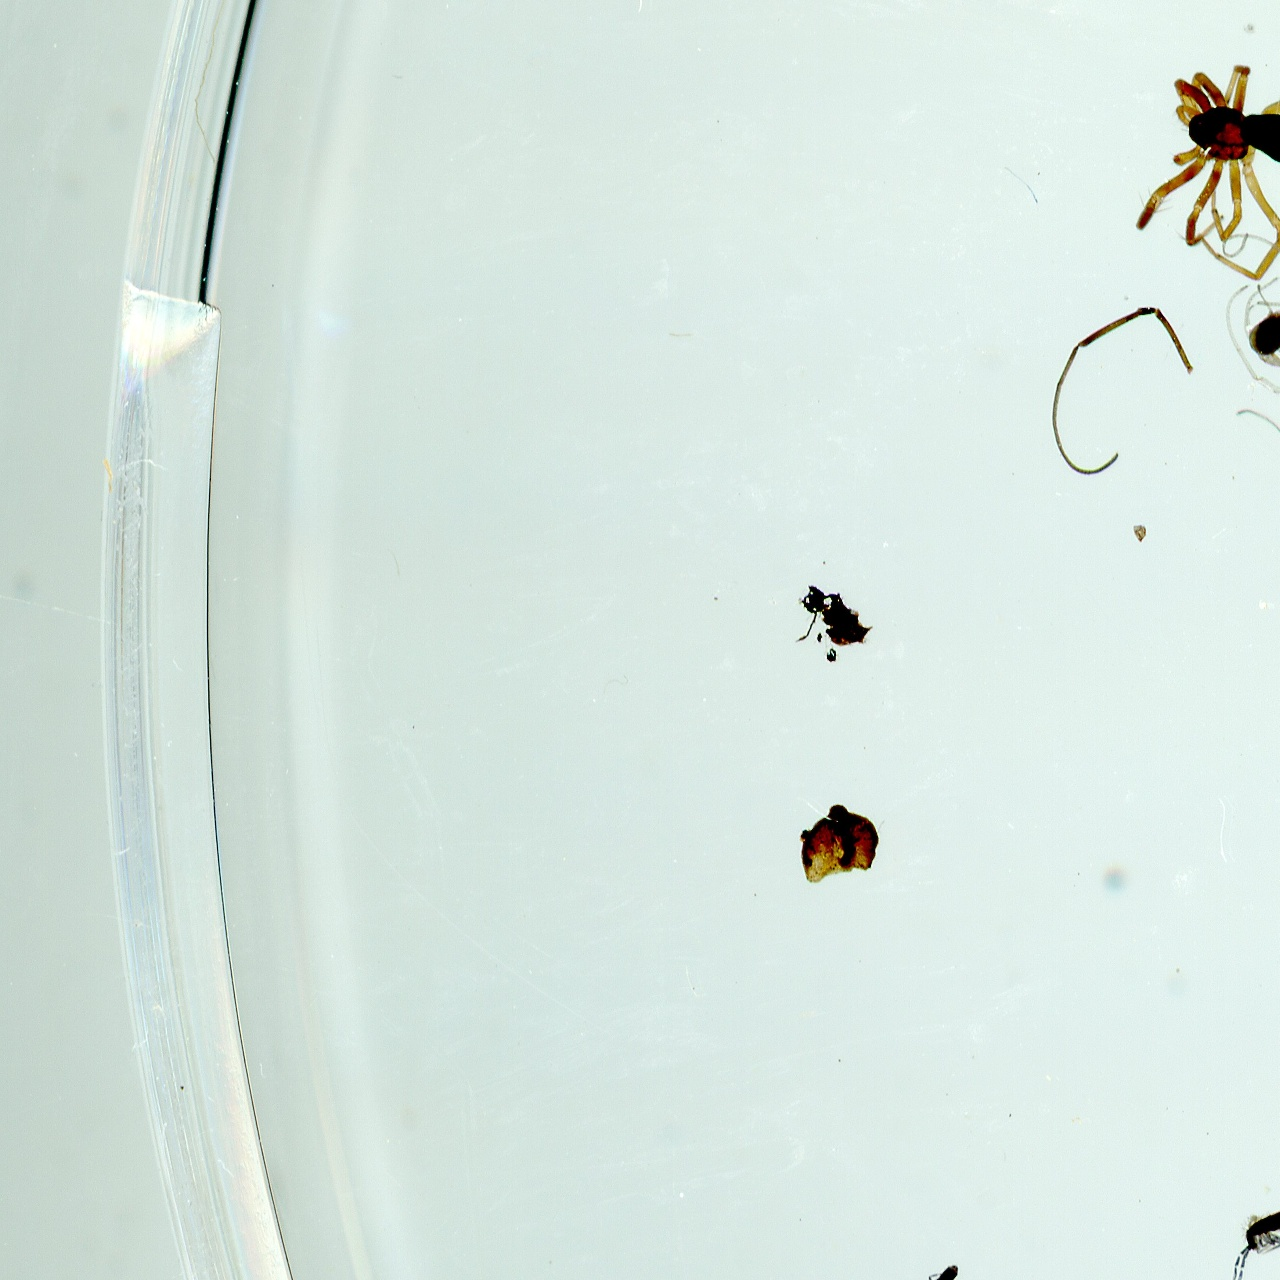arthropod: (1119, 56, 1280, 282), (1202, 220, 1280, 448), (1226, 1165, 1280, 1280), (893, 1239, 978, 1280)
